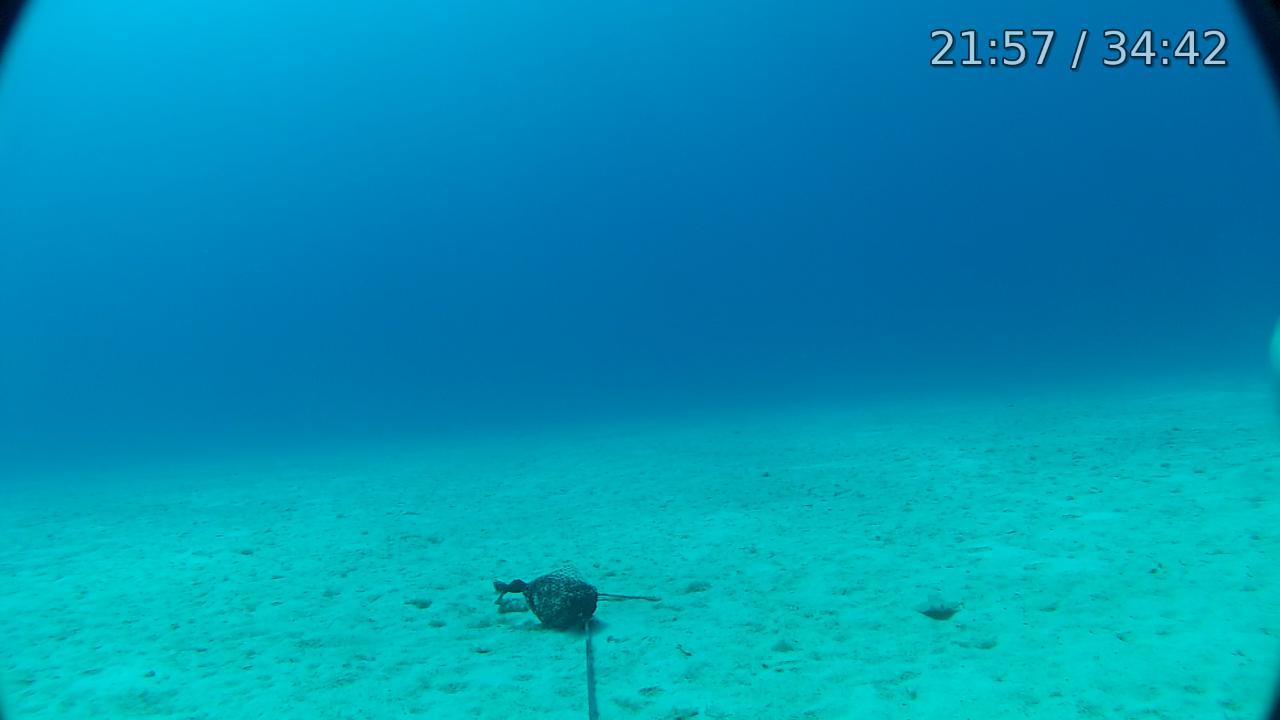bothus: (904, 588, 964, 624)
